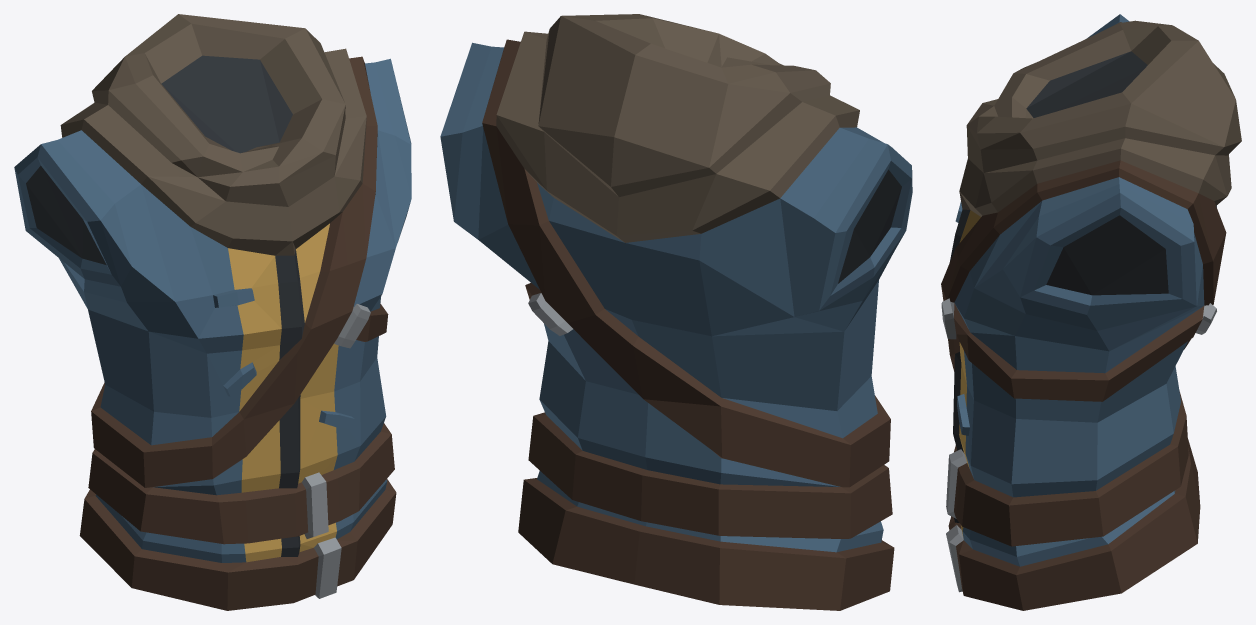
The model's file is Chr_Torso_Male_07_Static.fbx.
The picture shows the model from 3 angles, left to right: view 1: azimuth 30°, elevation 25°; view 2: azimuth 150°, elevation 25°; view 3: azimuth 270°, elevation 25°; orthographic projection. The views are drawn at different scales.
Parts seen in each view (by area): view 1: Chr_Torso_Male_07_Static; view 2: Chr_Torso_Male_07_Static; view 3: Chr_Torso_Male_07_Static.
Part boxes in pixels (<box>): Chr_Torso_Male_07_Static: <box>14,14,411,610</box>; Chr_Torso_Male_07_Static: <box>440,14,912,610</box>; Chr_Torso_Male_07_Static: <box>941,14,1241,610</box>.
Bounding box in the file's own units: 0.502 × 0.6827 × 0.3509.
